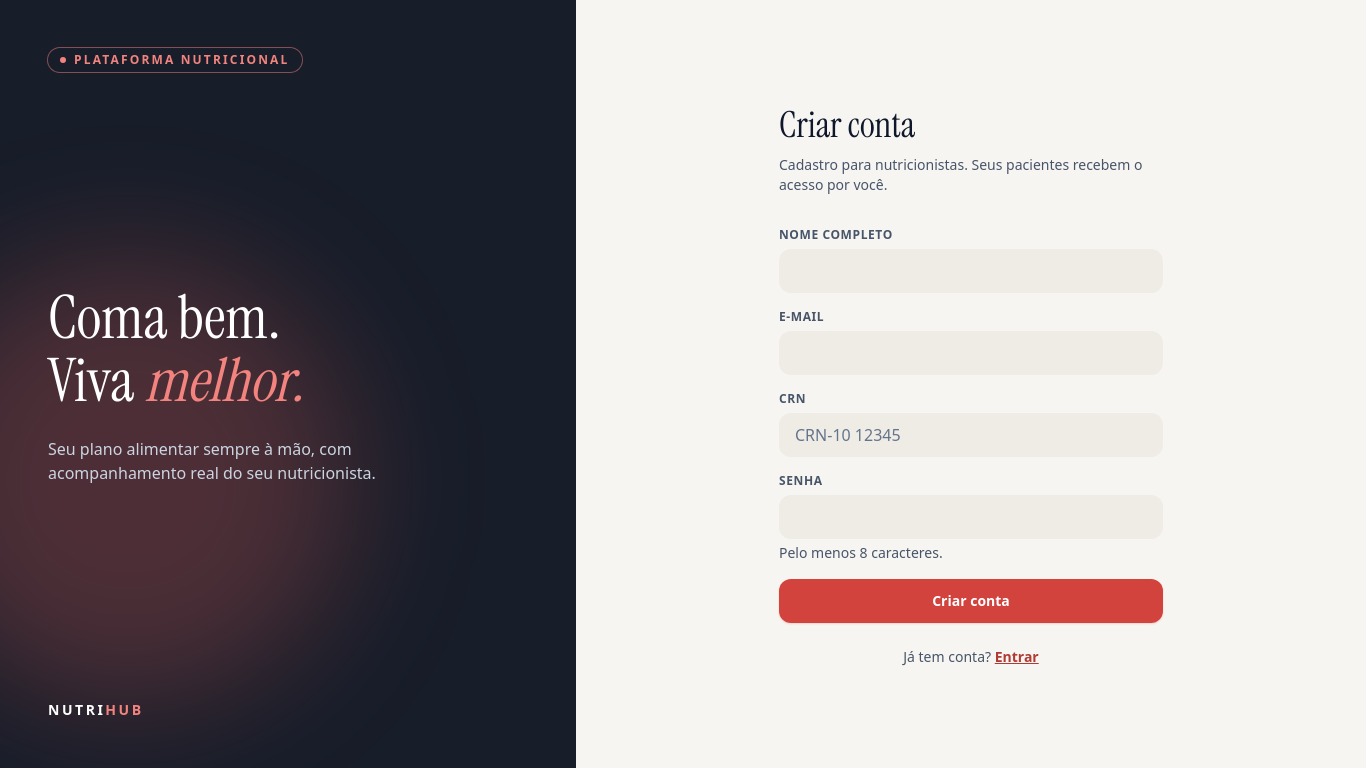
Cadastro (RF-01) › aponta o campo recusado pelo backend
Click the button "Criar conta" at (971, 600), box [779,578,1163,622]
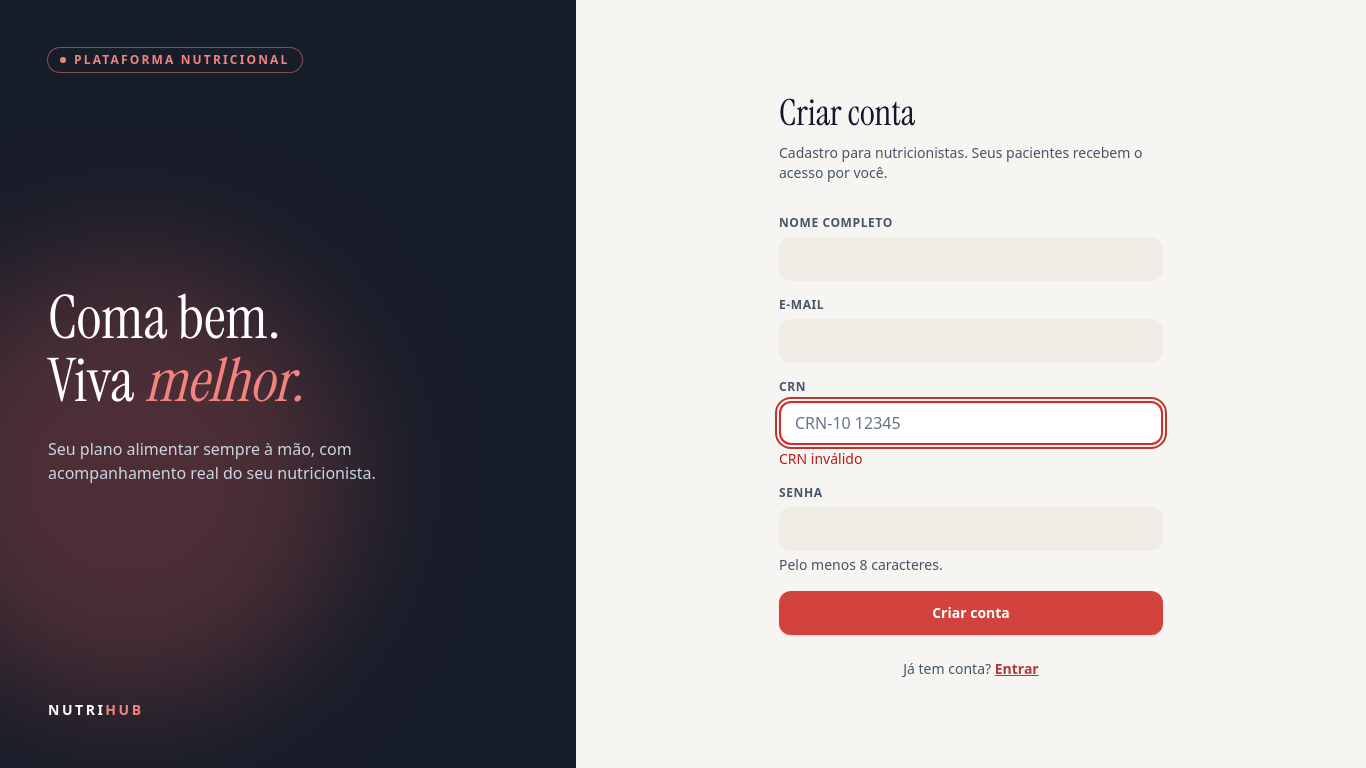
Now the text "CRN inválido" is shown, box [779,448,862,468]
